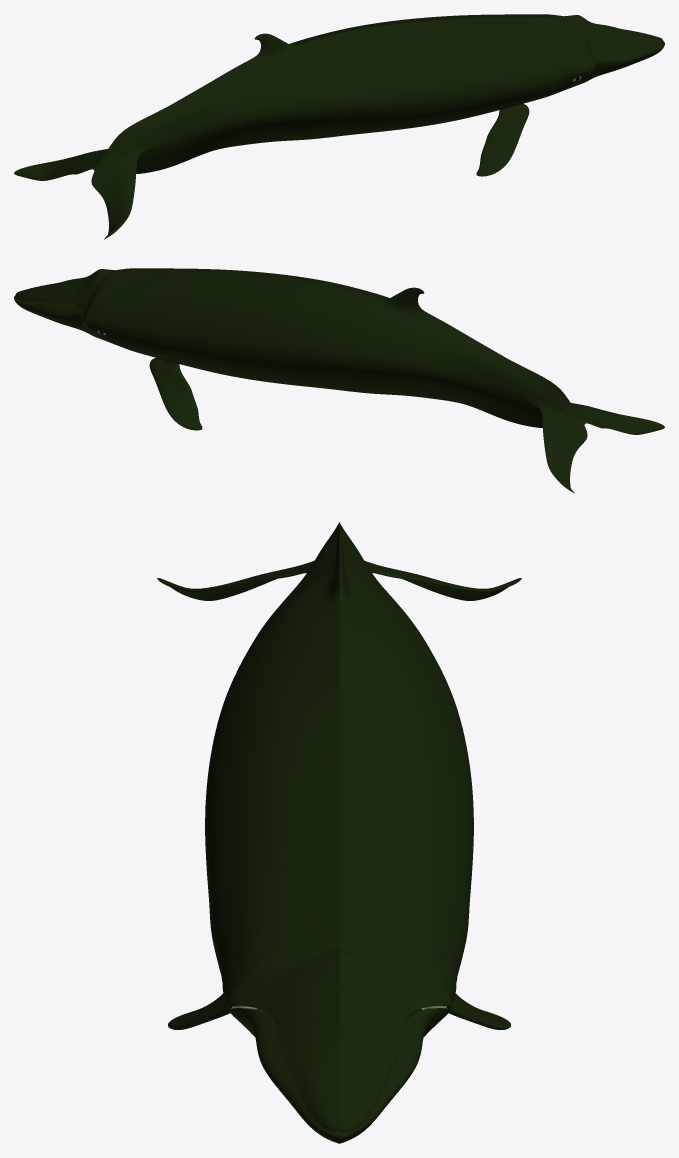
The model's file is 10.BallenaMinke.glb.
3 renders of one model, top to bottom at view 1: azimuth 30°, elevation 25°; view 2: azimuth 150°, elevation 25°; view 3: azimuth 270°, elevation 25°, orthographic. The views are drawn at different scales.
Parts seen in each view (by area): view 1: Cube; view 2: Cube; view 3: Cube.
Part boxes in pixels (<box>): Cube: <box>14,14,664,239</box>; Cube: <box>14,268,664,493</box>; Cube: <box>157,522,521,1143</box>.
Size of the model in its own units: 11.92 by 2.95 by 3.1.
2 materials, 1 textured.
